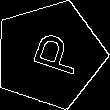P_W: (18, 29, 81, 80)
